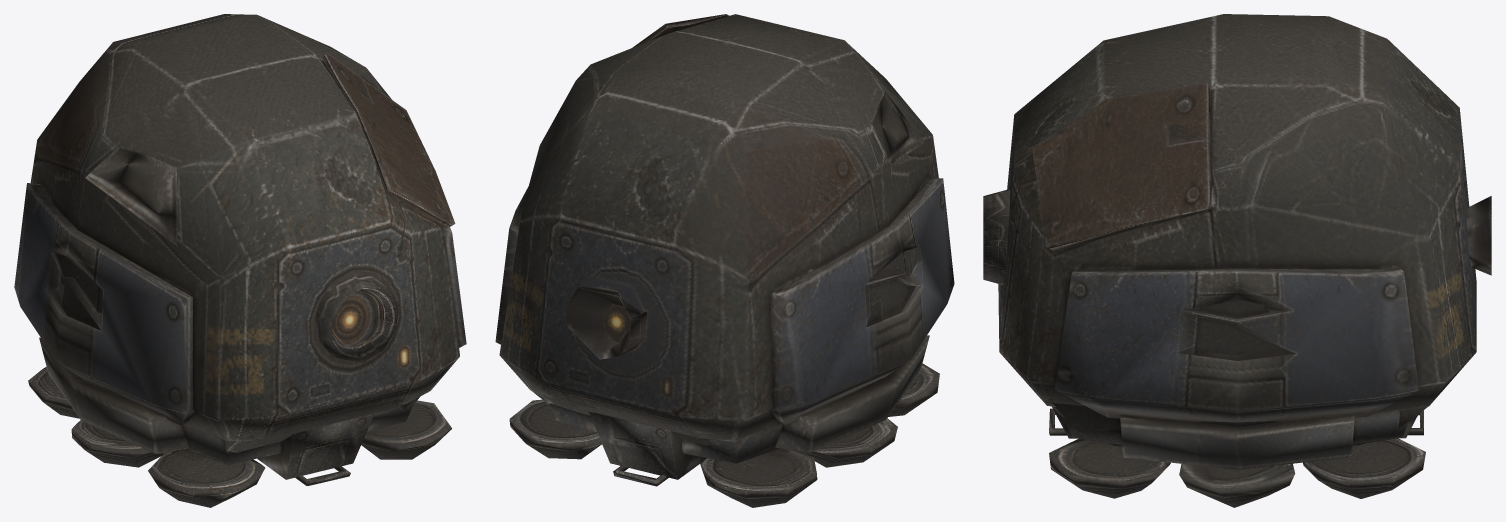
File: Small Circular Droid.glb
3 renders of one model, left to right at view 1: azimuth 30°, elevation 25°; view 2: azimuth 150°, elevation 25°; view 3: azimuth 270°, elevation 25°, orthographic. The views are drawn at different scales.
Bounding box in the file's own units: 1.75 × 1.74 × 2.
Materials: 1 (1 with a texture image).
